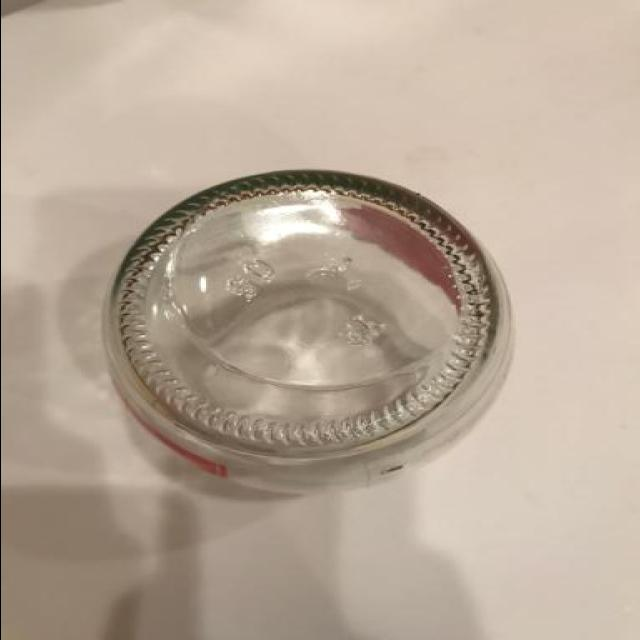litter: (100, 167, 518, 503)
